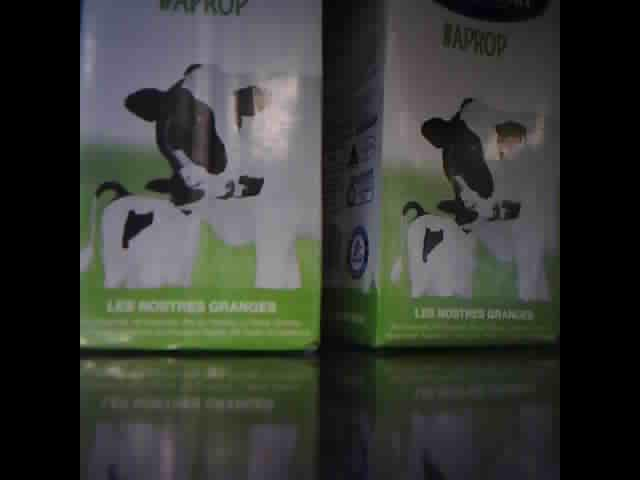leche: (82, 3, 321, 351), (326, 4, 557, 349)
